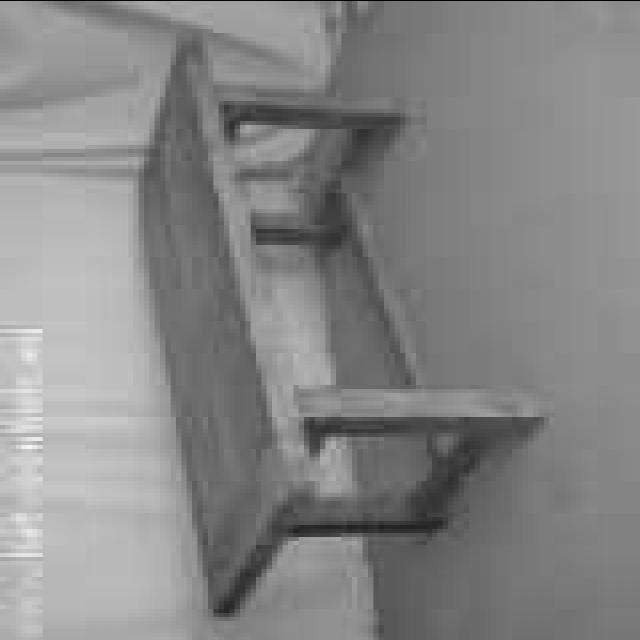table: (137, 29, 545, 610)
